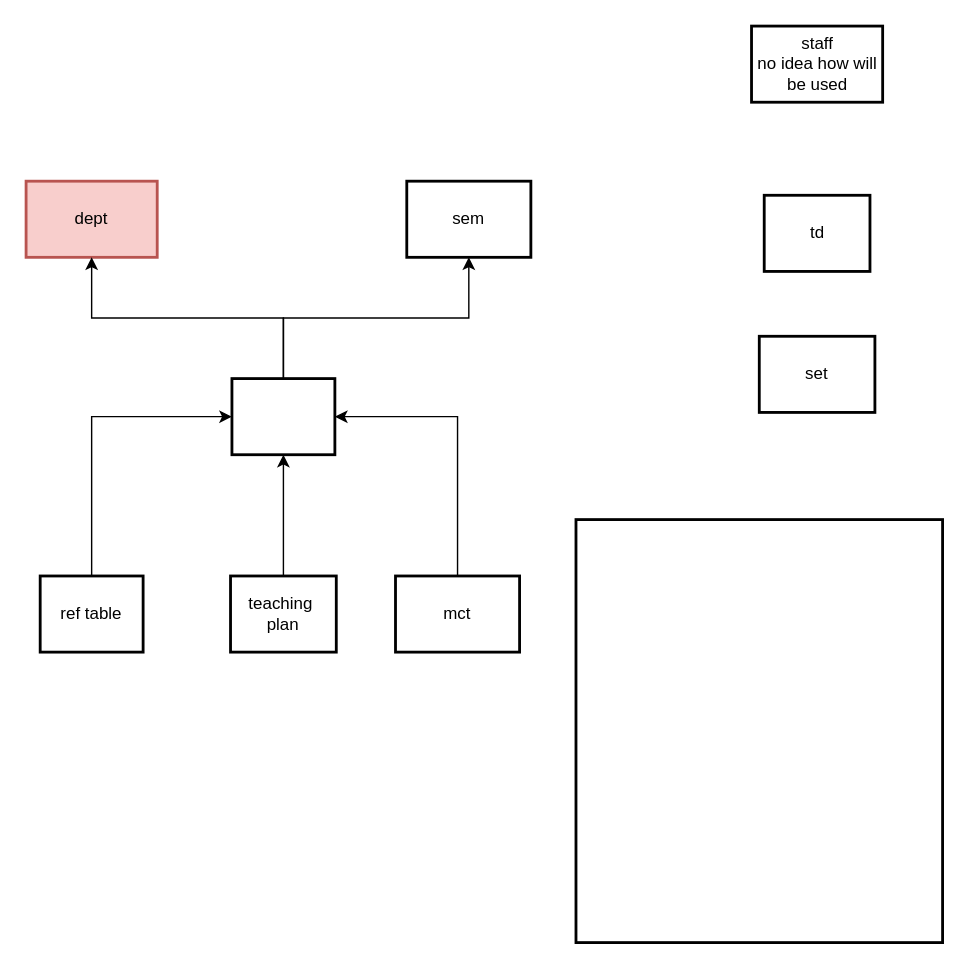
Image size: 967x967. Some labels were removed from this diagram. Here are the shapes that lost their labels. From the top down, the centre of each, then its label:
At pixel 283 415: "sub table".
At pixel 758 730: "teacherlogic updatelogic teachingplan teachingplanlogic".
